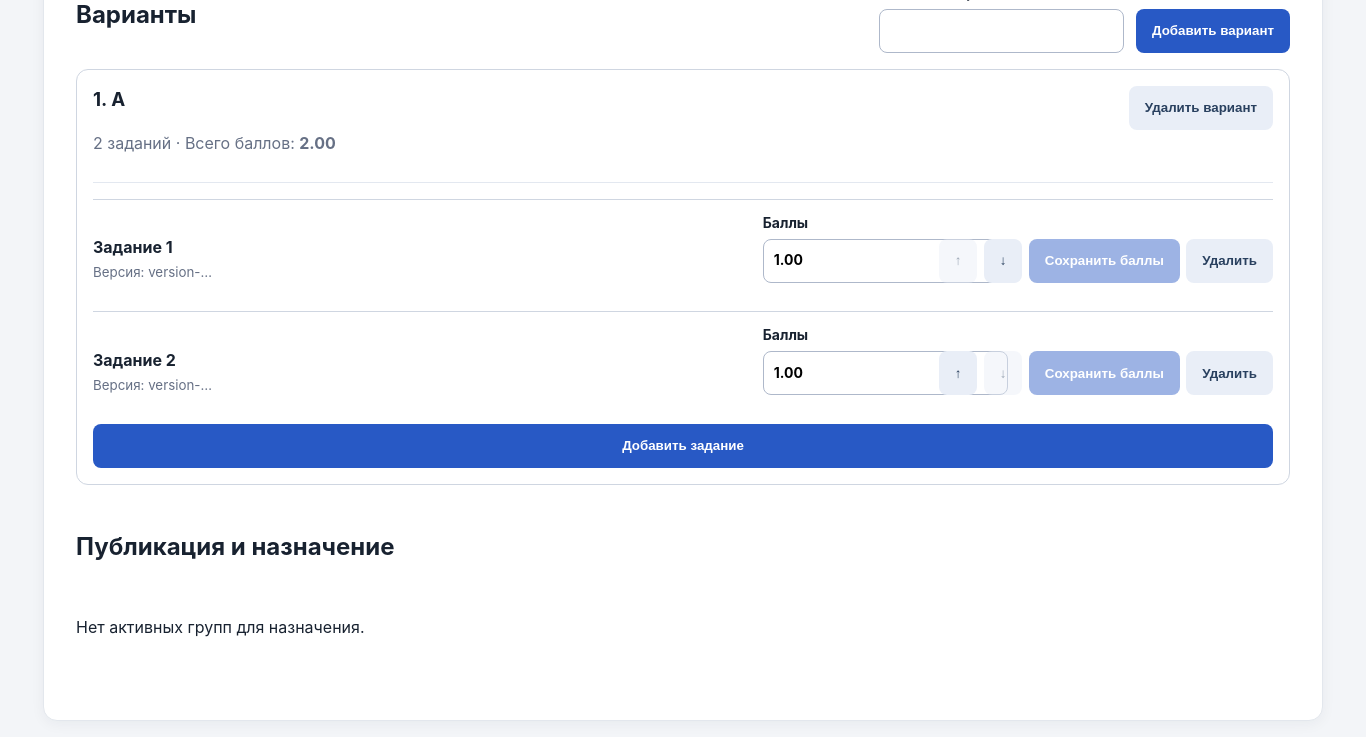
Test: Assessment pages › prevents a late search response overwriting the newer query
(page scrolled)
Click the button "Добавить задание": {"x": 683, "y": 446} [93, 424, 1273, 468]
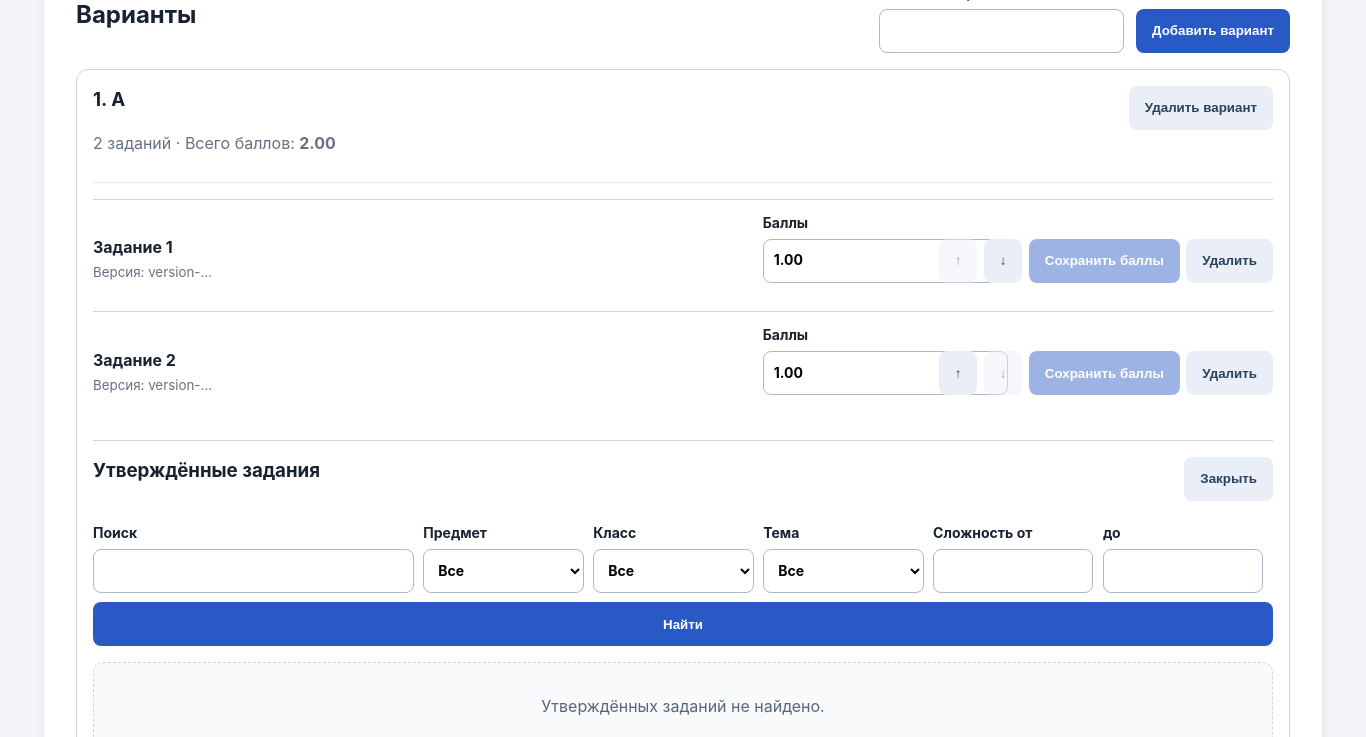
In the field labelled "Поиск": {"x": 253, "y": 571} [93, 549, 414, 593], type "old"
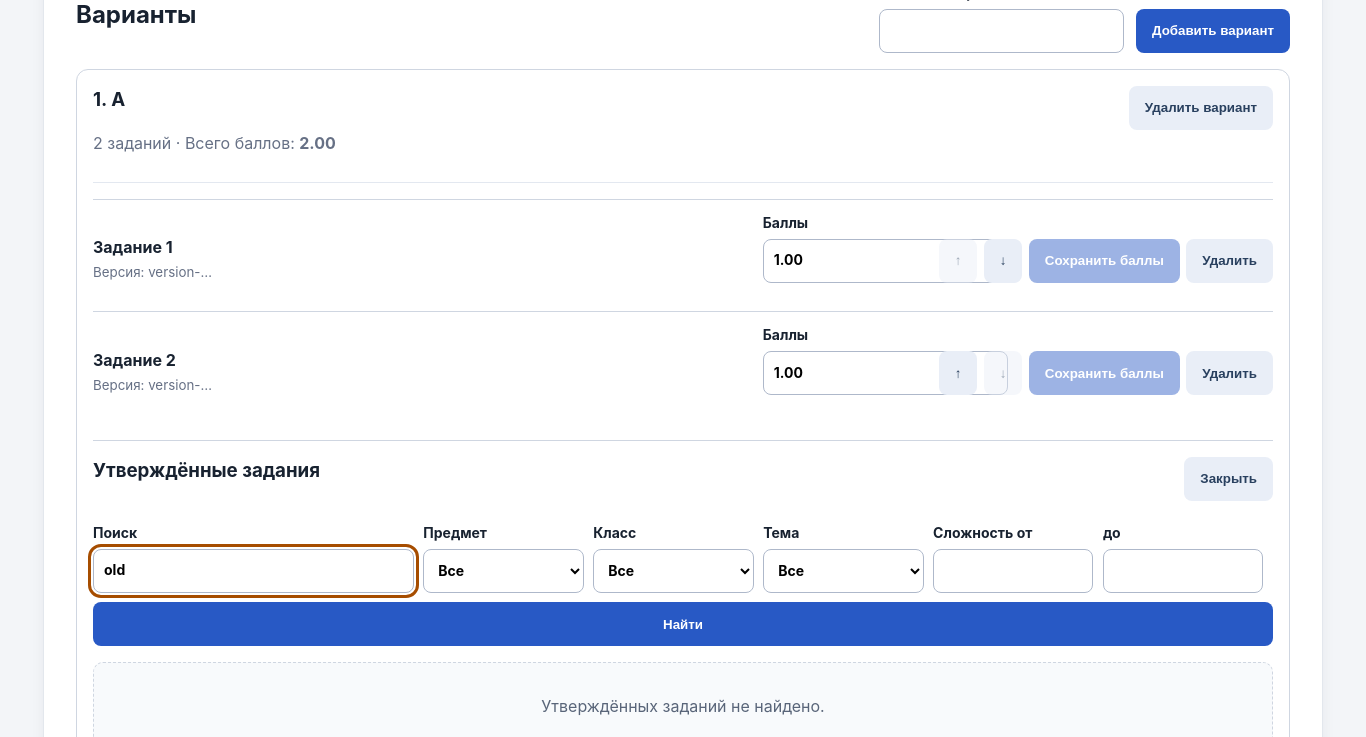
Click the button "Найти": {"x": 683, "y": 624} [93, 602, 1273, 646]
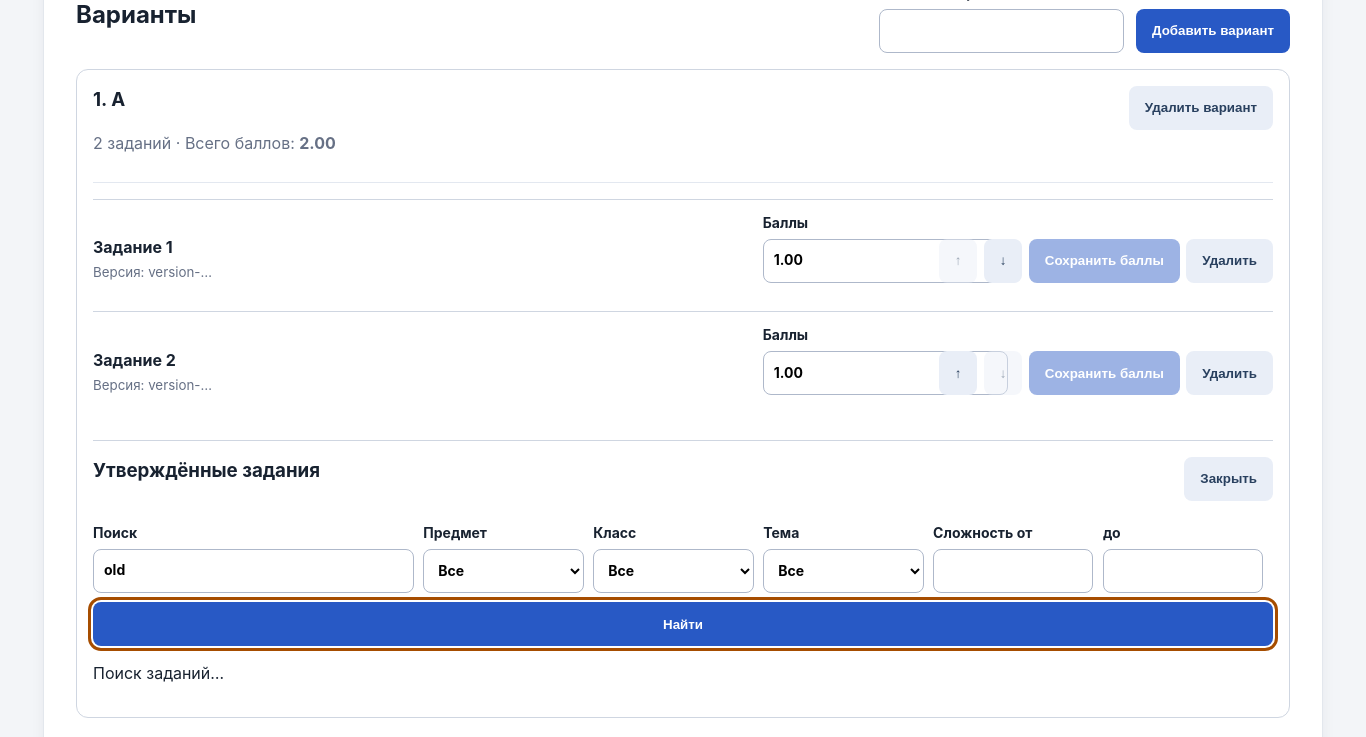
Replace the text in the field labelled "Поиск" with "new": {"x": 253, "y": 571} [93, 549, 414, 593]
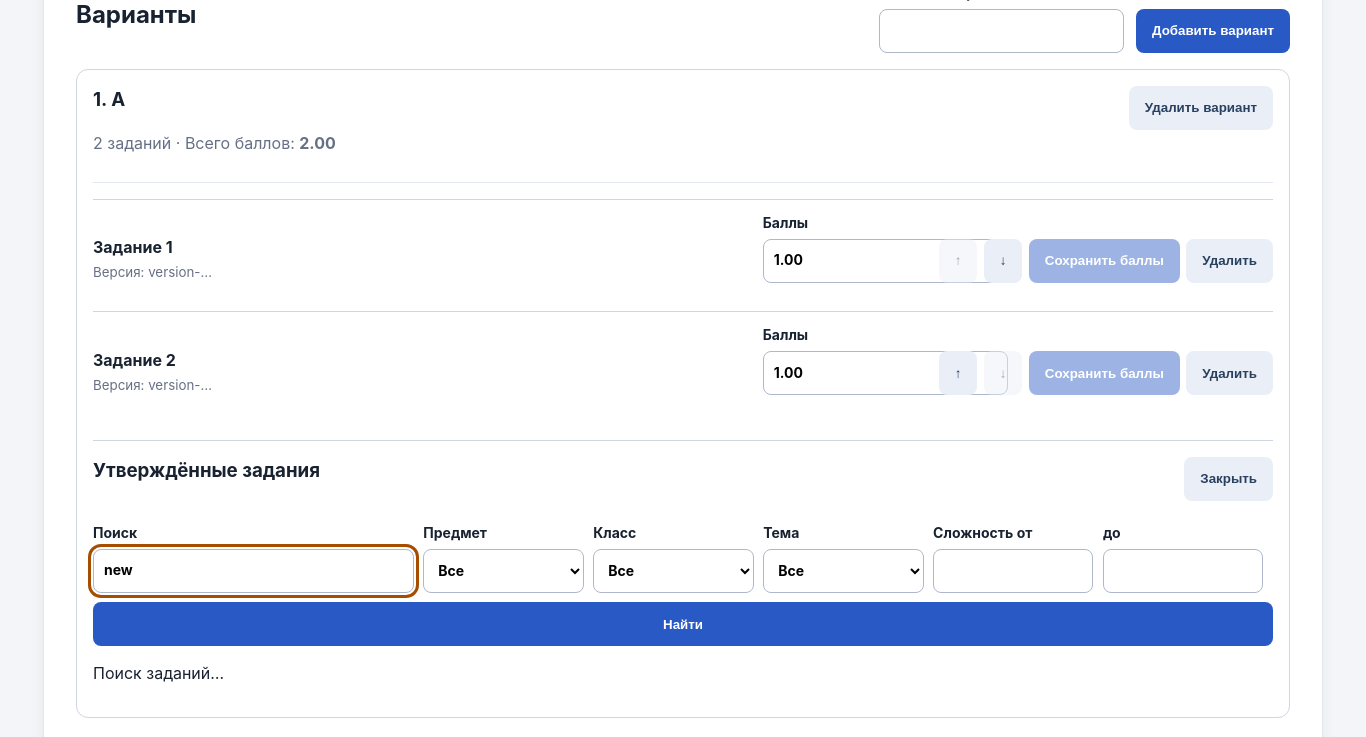
Click the button "Найти": {"x": 683, "y": 624} [93, 602, 1273, 646]
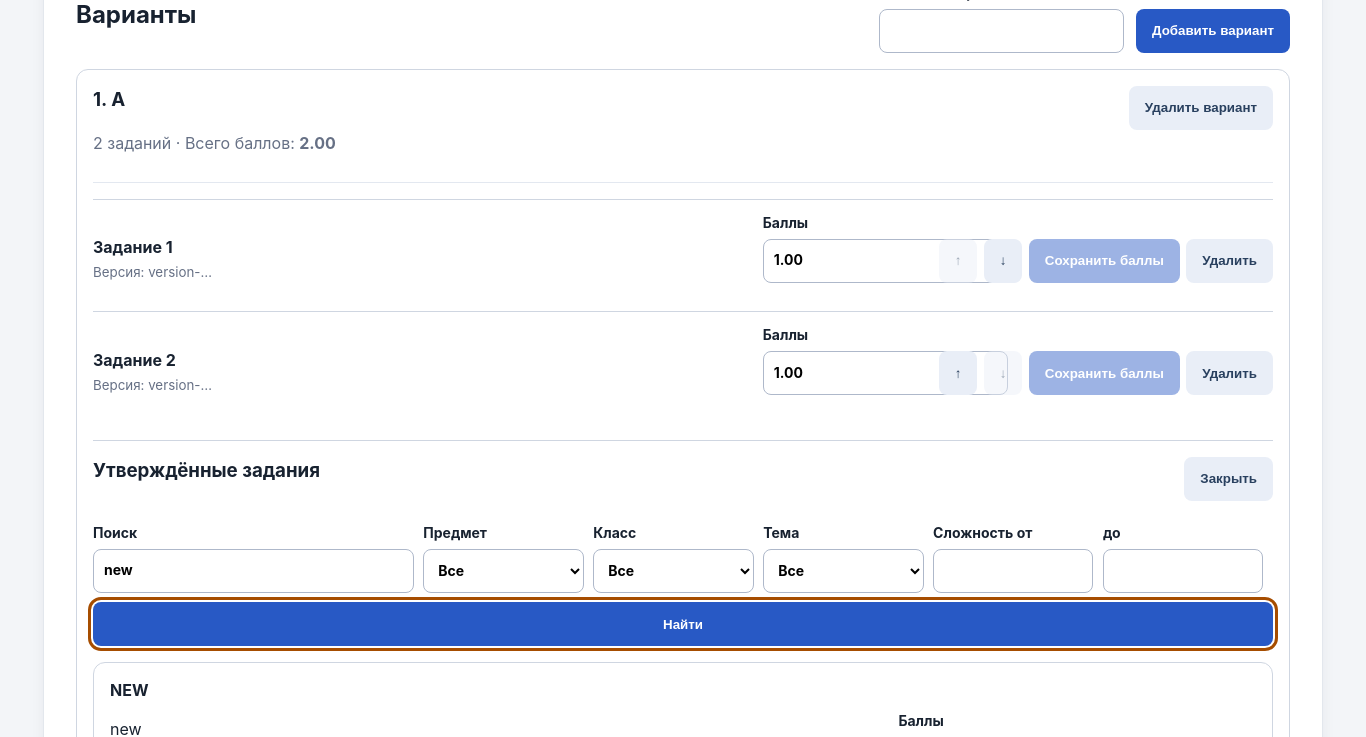
Expected: the text "OLD" is not shown
Expected: the text "NEW" is shown, [110, 680, 148, 700]
